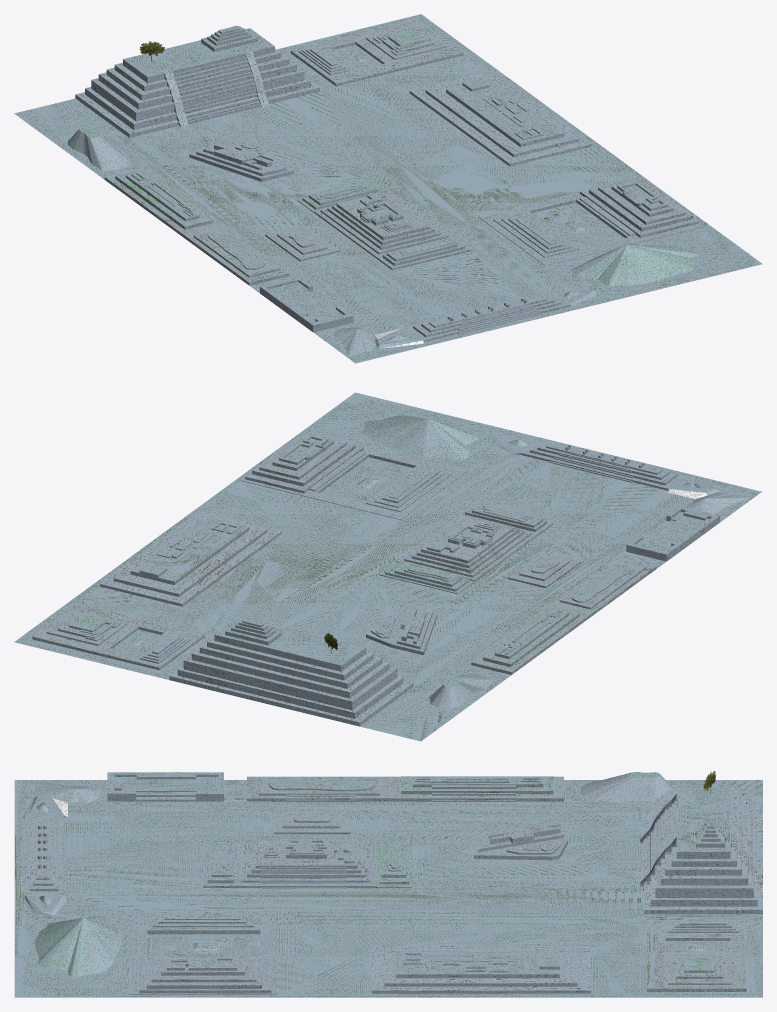
Rendered from Monte Alban.obj.
The picture shows the model from 3 angles, top to bottom: view 1: azimuth 30°, elevation 25°; view 2: azimuth 150°, elevation 25°; view 3: azimuth 270°, elevation 25°; orthographic projection. The views are drawn at different scales.
Visible parts, largest first — view 1: Mesh3 Model; view 2: Mesh3 Model; view 3: Mesh3 Model.
Boxes of the visible parts, box(x1,y1,x2,y2) form: Mesh3 Model: box(14, 14, 762, 363); Mesh3 Model: box(14, 392, 761, 741); Mesh3 Model: box(14, 772, 762, 997).
Size of the model in its own units: 551 by 84.56 by 800.
